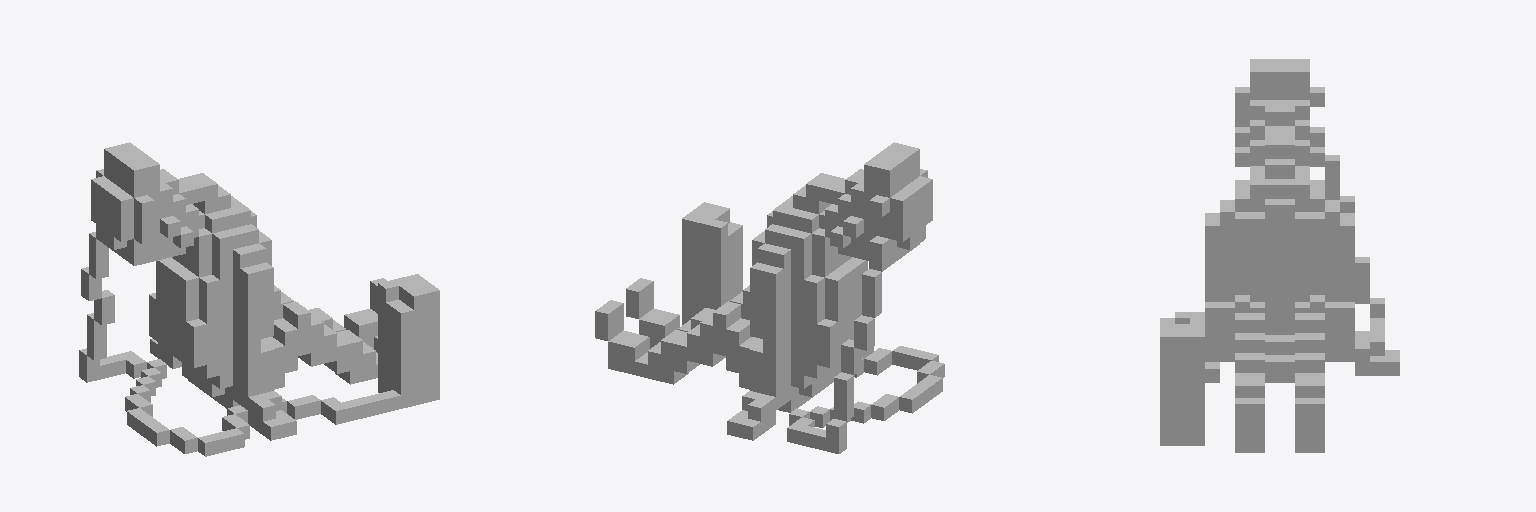
File: VR Addict-1.obj
3 views of the same model, side by side, from view 1: azimuth 30°, elevation 25°; view 2: azimuth 150°, elevation 25°; view 3: azimuth 270°, elevation 25° (orthographic).
Parts seen in each view (by area): view 1: object 1; view 2: object 1; view 3: object 1.
Boxes of the visible parts, x1,y1,x2,y2 form: object 1: [79, 142, 439, 456]; object 1: [595, 142, 944, 453]; object 1: [1160, 59, 1399, 452].
Size of the model in its own units: 2.3 by 1.9 by 1.6.